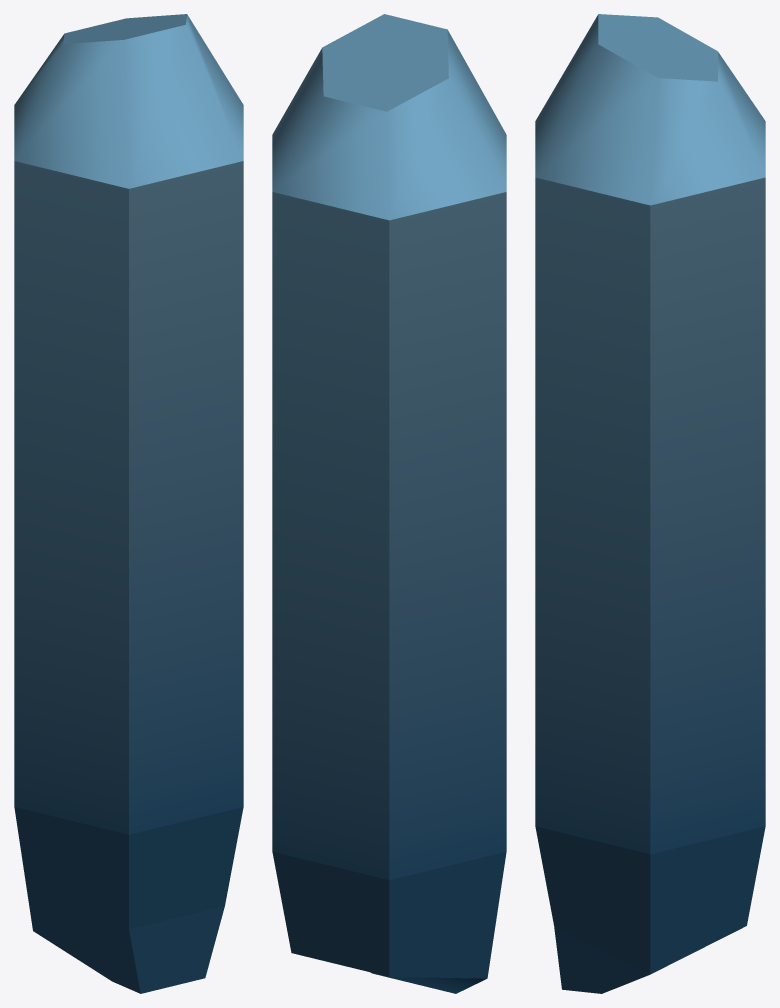
Rendered from geology-crystals-icecrystal_v6.fbx.
The picture shows the model from 3 angles, left to right: view 1: azimuth 30°, elevation 25°; view 2: azimuth 150°, elevation 25°; view 3: azimuth 270°, elevation 25°; orthographic projection. The views are drawn at different scales.
Visible parts, largest first — view 1: IceCrystal_v6; view 2: IceCrystal_v6; view 3: IceCrystal_v6.
Boxes of the visible parts, bbox=[...] form: IceCrystal_v6: bbox=[14, 14, 243, 993]; IceCrystal_v6: bbox=[272, 14, 506, 993]; IceCrystal_v6: bbox=[535, 14, 765, 993].
Bounding box in the file's own units: 1.45 × 5.68 × 1.25.
